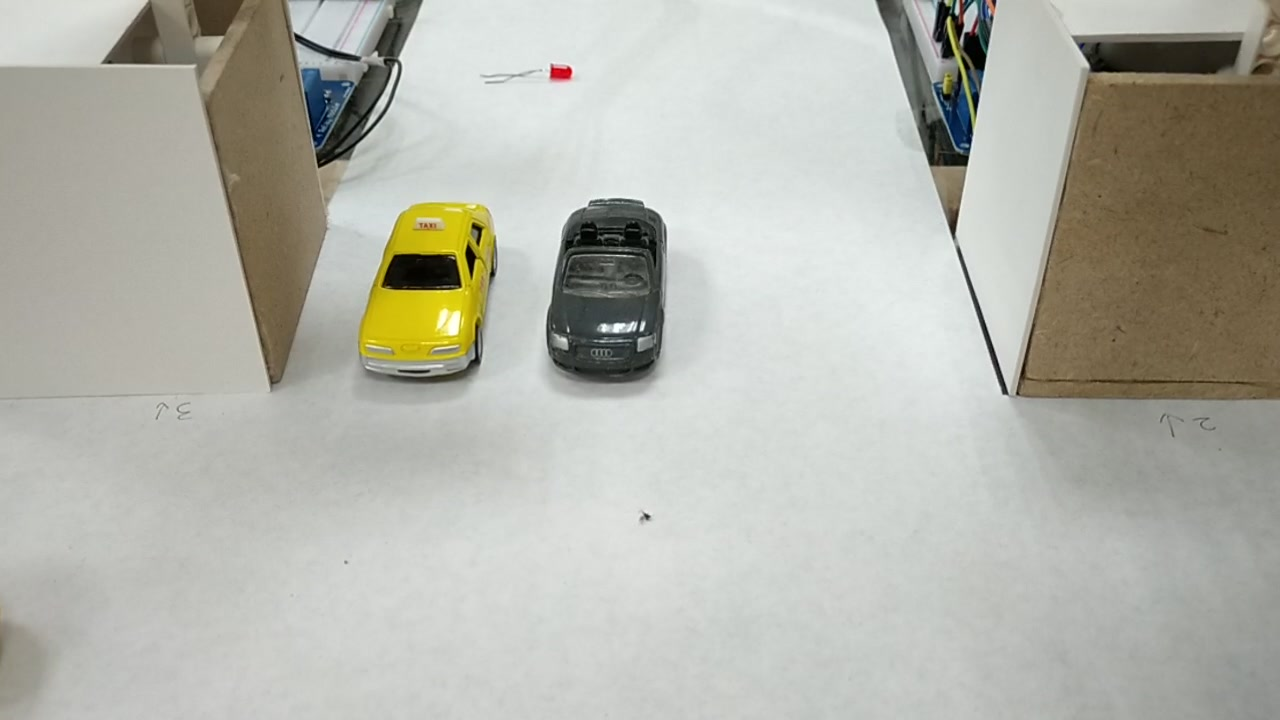car: (355, 206, 493, 378), (546, 203, 662, 369)
